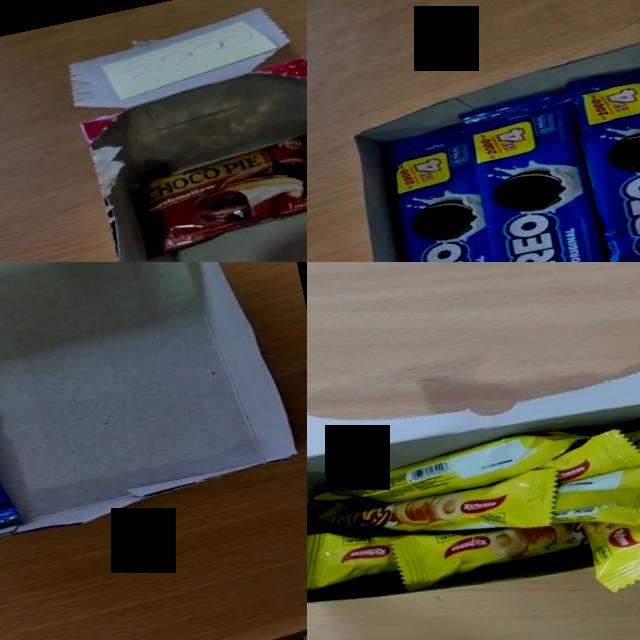Ahh: (307, 454, 567, 574), (308, 419, 597, 521), (390, 498, 590, 594), (307, 513, 417, 595), (532, 420, 640, 496), (540, 461, 640, 543), (581, 497, 640, 597), (616, 397, 640, 477)
Chocopie: (127, 126, 307, 260)
Oreo: (444, 88, 624, 262), (353, 121, 516, 262), (566, 55, 640, 262)
